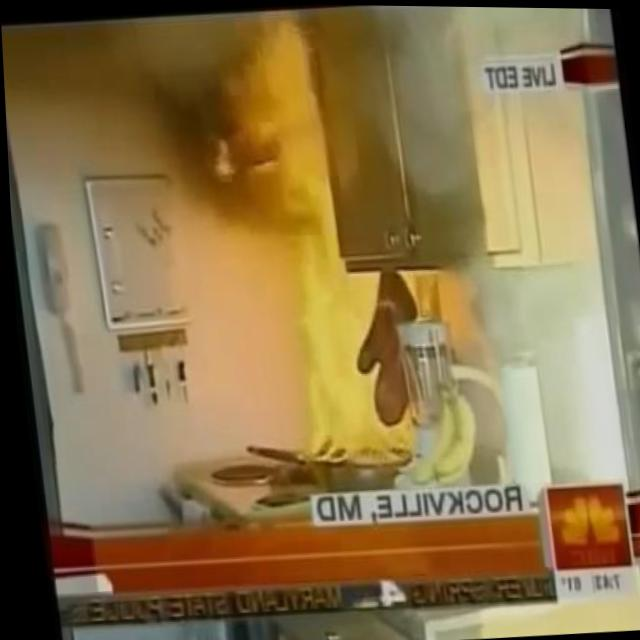fire: (236, 17, 401, 467)
